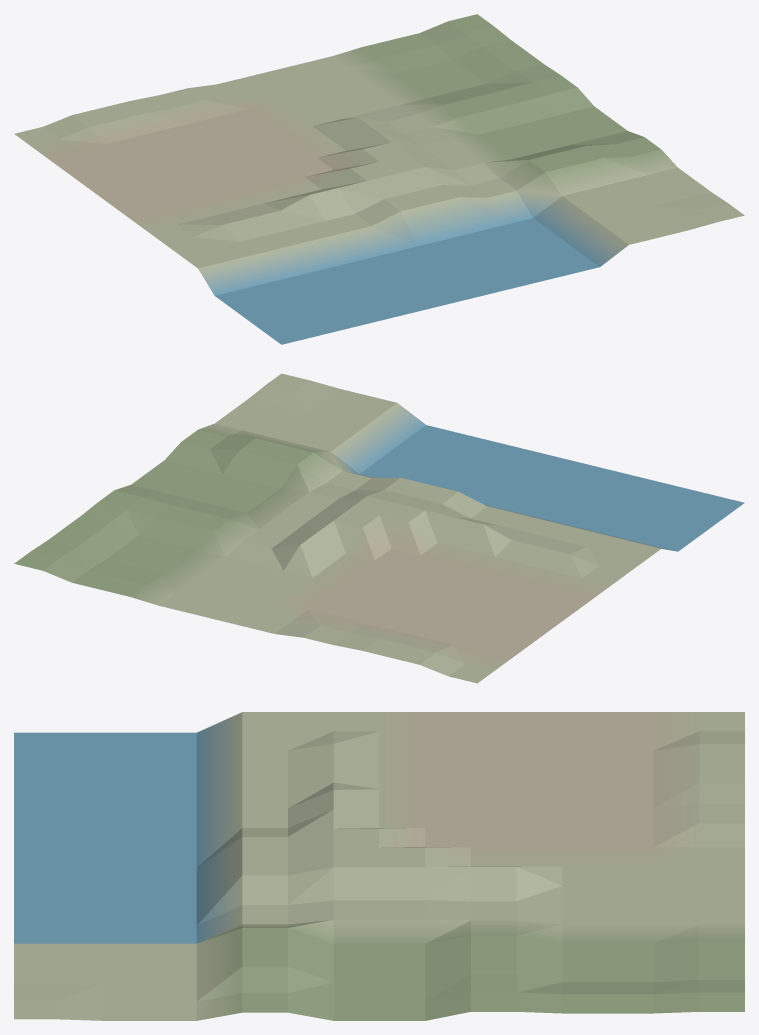
3 renders of one model, top to bottom at view 1: azimuth 30°, elevation 25°; view 2: azimuth 150°, elevation 25°; view 3: azimuth 270°, elevation 25°, orthographic. The views are drawn at different scales.
Size of the model in its own units: 32 by 1.91 by 32.
